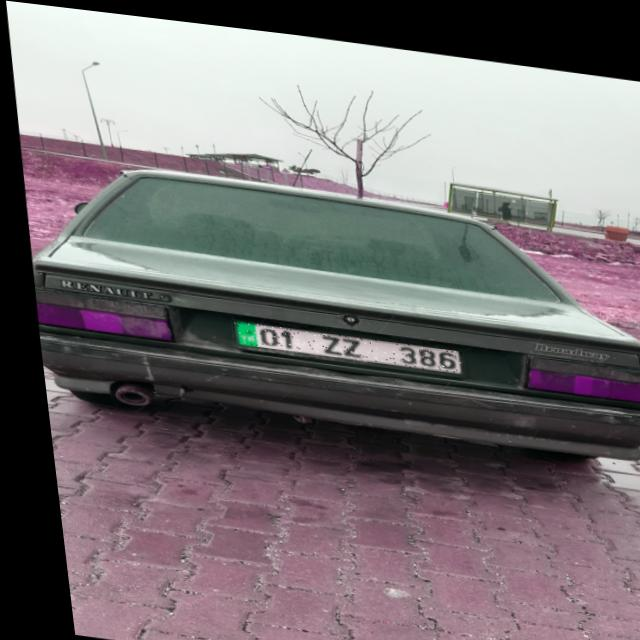license_plate: (226, 315, 455, 364)
